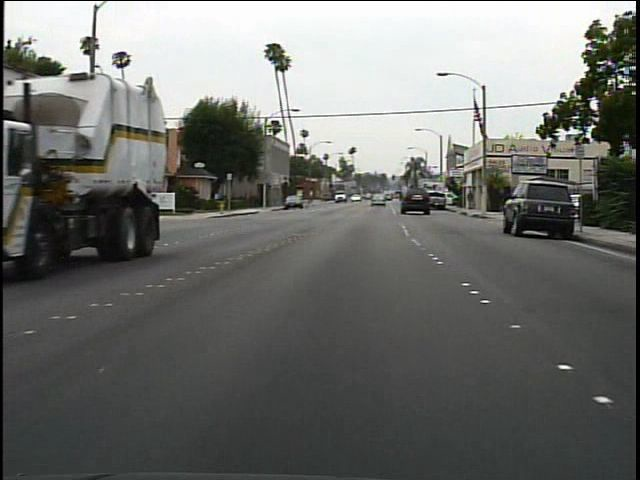person: (462, 187, 479, 216)
